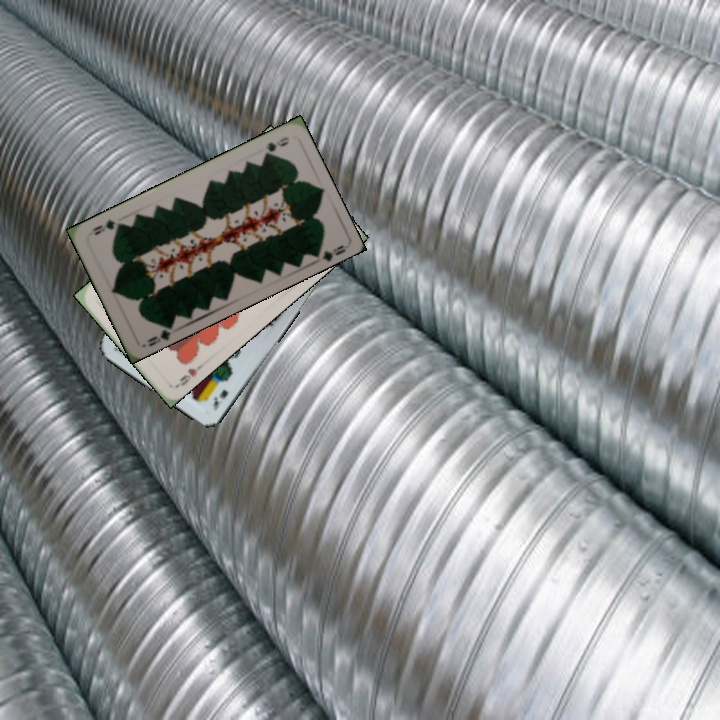EK: (209, 385, 231, 413)
G9: (143, 320, 175, 349), (258, 133, 292, 160)
H9: (172, 359, 206, 390)
